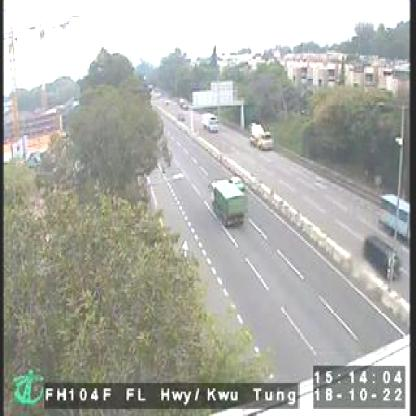Bus: (378, 190, 412, 241)
Car: (362, 234, 400, 284)
Truck: (210, 178, 248, 226), (250, 124, 274, 151), (201, 112, 219, 134)
